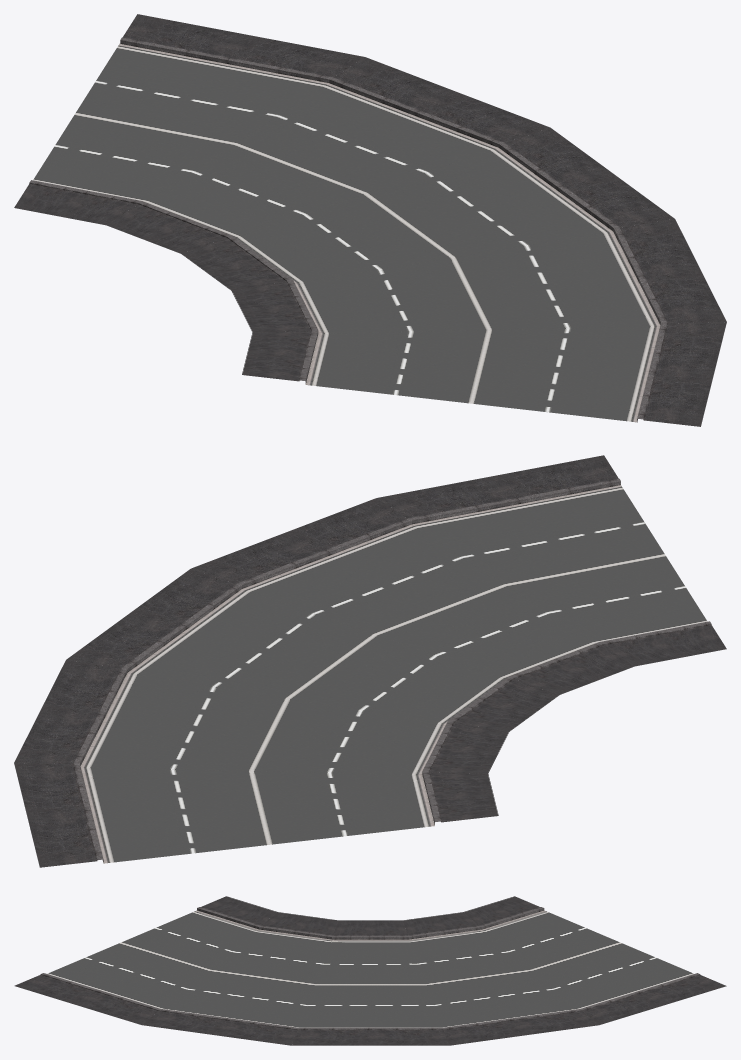
File: 4 lines corner 1.FBX
3 views of the same model, one above another, from view 1: azimuth 30°, elevation 25°; view 2: azimuth 150°, elevation 25°; view 3: azimuth 270°, elevation 25° (orthographic). The views are drawn at different scales.
Visible parts, largest first — view 1: outter; view 2: outter; view 3: outter.
Part boxes in pixels (x1,y1,x2,y2): outter: (14,14,726,426); outter: (14,455,726,867); outter: (14,896,726,1045).
Bounding box in the file's own units: 38.19 × 0.3185 × 76.92.
